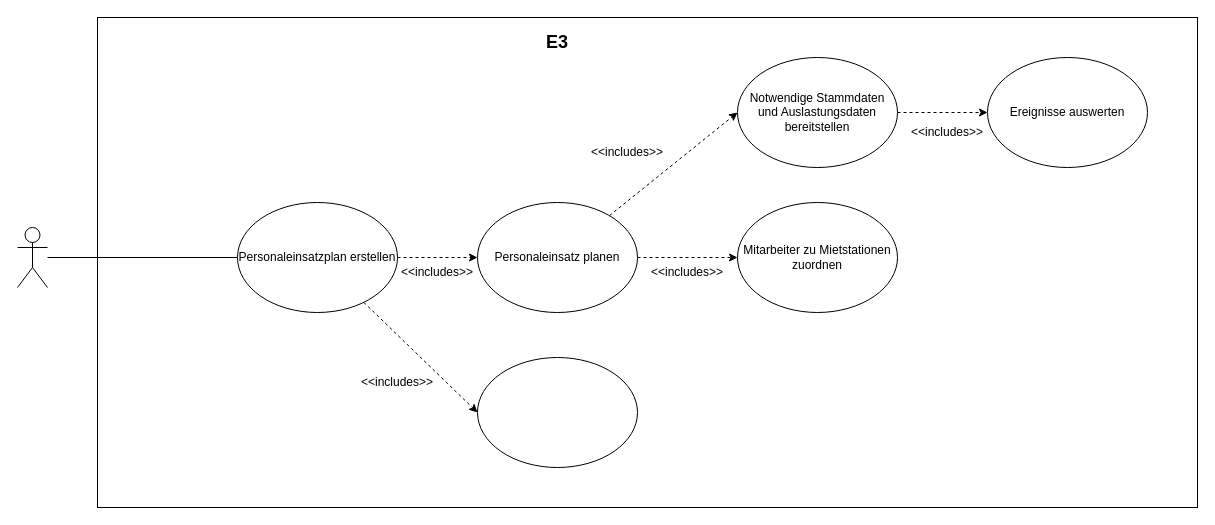
Some shapes in this 1215 by 525 pixel diagram are drawn without their labels. The centre of each missing label's shape, as x and y in pixels:
"HR" goes at point 32,257.
"Personaleinsatz überwachen" goes at point 557,412.
